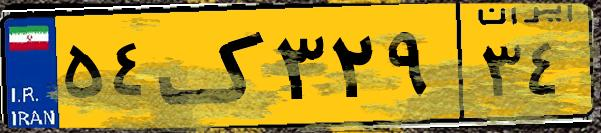2: (330, 28, 385, 110)
3: (270, 28, 330, 110), (475, 38, 525, 113)
4: (525, 38, 570, 115), (110, 28, 158, 98)
5: (57, 26, 110, 100)
9: (385, 28, 445, 110)
ک: (158, 12, 270, 120)
